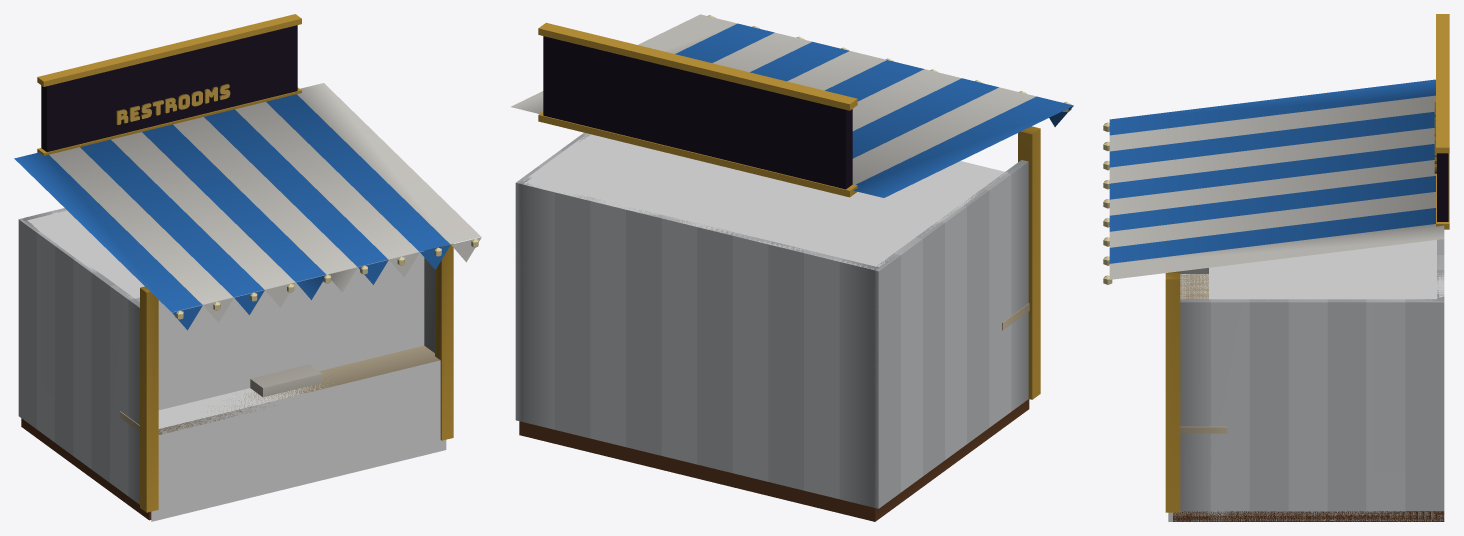
File: c_stall_toilets.glb
The picture shows the model from 3 angles, left to right: view 1: azimuth 30°, elevation 25°; view 2: azimuth 150°, elevation 25°; view 3: azimuth 270°, elevation 25°; orthographic projection. The views are drawn at different scales.
Visible parts, largest first — view 1: c_stall_toilets, COL_1, COL_0; view 2: c_stall_toilets, COL_0; view 3: c_stall_toilets, COL_0, COL_1.
Boxes of the visible parts, x1,y1,x2,y2 form: c_stall_toilets: (14,14,481,520); COL_1: (151,360,446,521); COL_0: (21,210,424,410); c_stall_toilets: (511,14,1073,521); COL_0: (522,134,1007,269); c_stall_toilets: (1103,14,1449,521); COL_0: (1209,240,1444,521); COL_1: (1168,274,1227,521).
Bounding box in the file's own units: 4.2 × 4.45 × 3.83.
